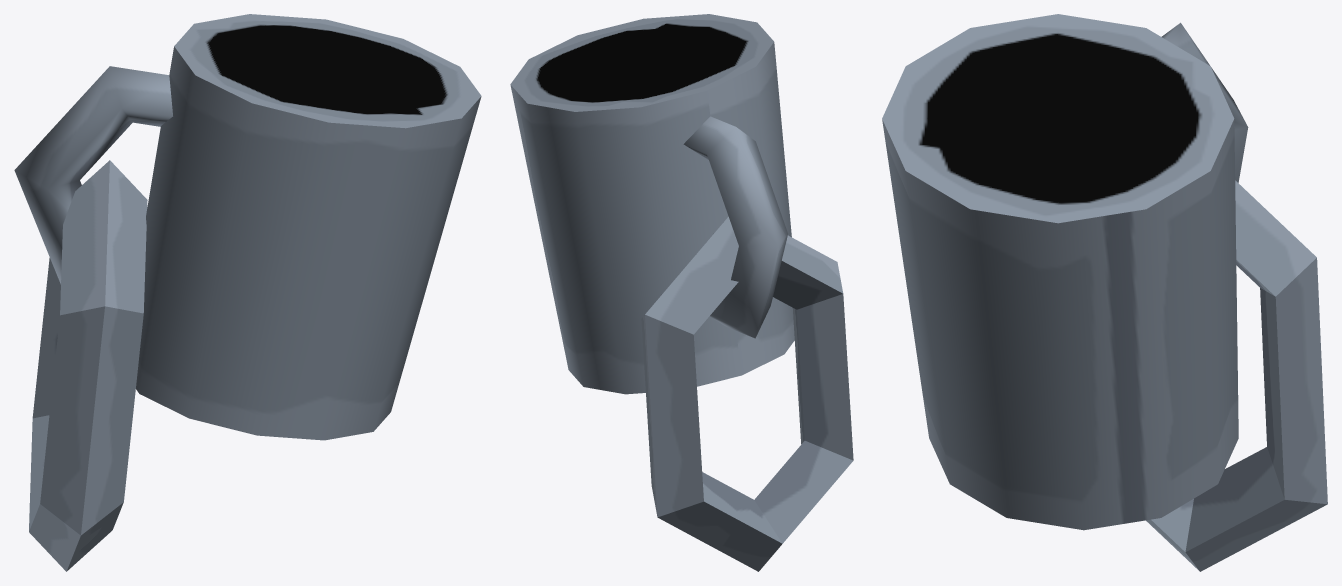
The model's file is LegCuffRight.fbx.
3 views of the same model, side by side, from view 1: azimuth 30°, elevation 25°; view 2: azimuth 150°, elevation 25°; view 3: azimuth 270°, elevation 25° (orthographic). The views are drawn at different scales.
Parts seen in each view (by area): view 1: LegCuffRight; view 2: LegCuffRight; view 3: LegCuffRight.
Boxes of the visible parts, x1=… form: LegCuffRight: x1=14, y1=14, x2=481, y2=571; LegCuffRight: x1=510, y1=14, x2=853, y2=571; LegCuffRight: x1=882, y1=14, x2=1327, y2=571.
Bounding box in the file's own units: 22.73 × 28.63 × 19.47.
